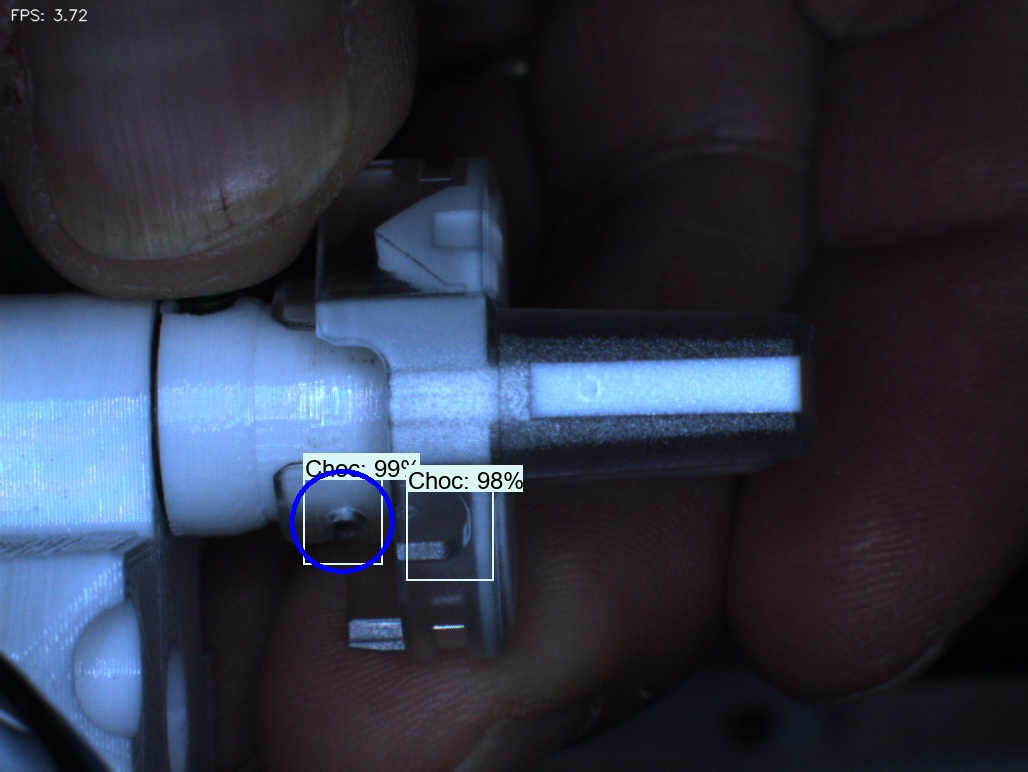DentOk: (347, 198, 422, 291)
